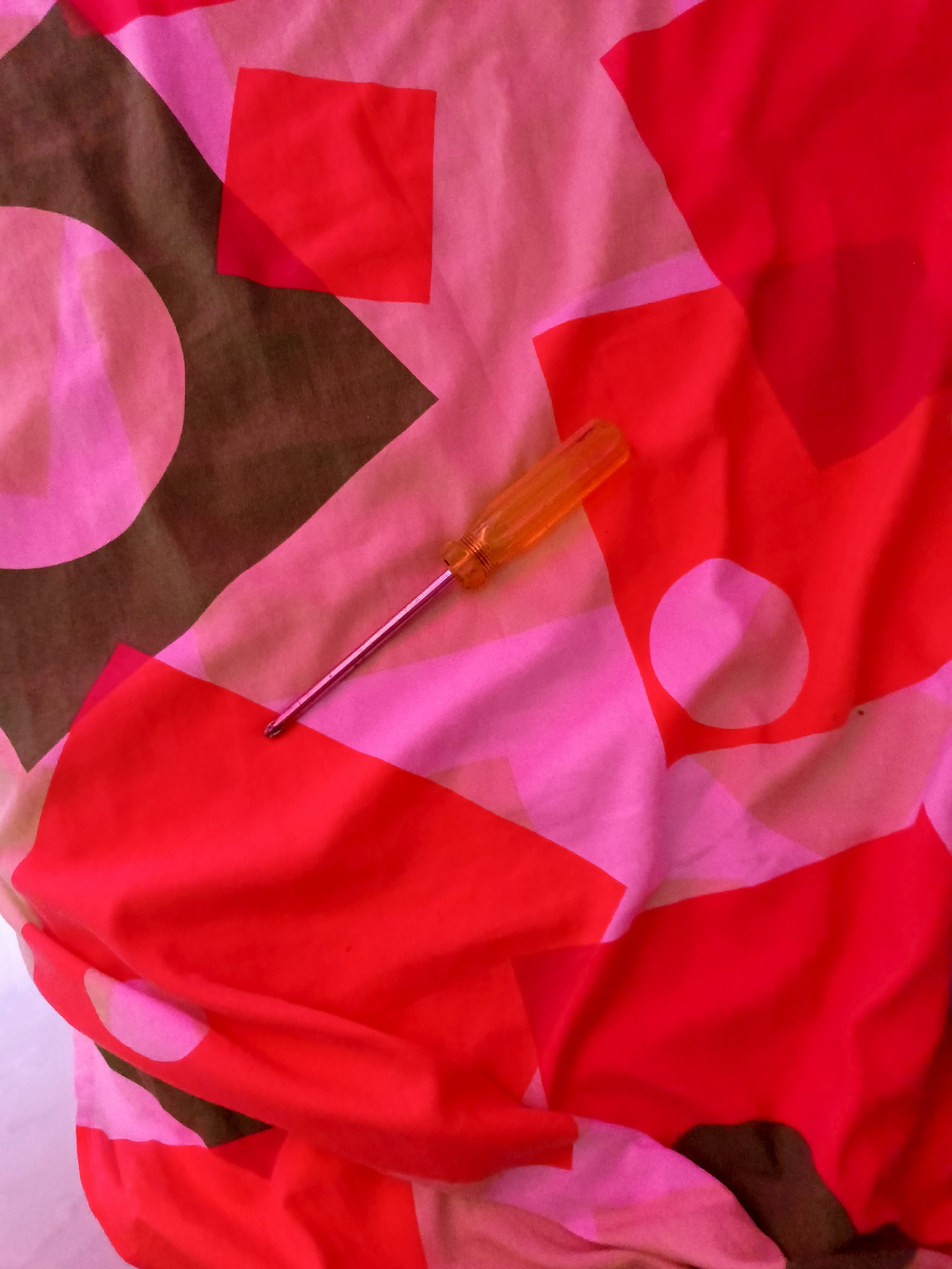Destornillador: (265, 421, 629, 737)
